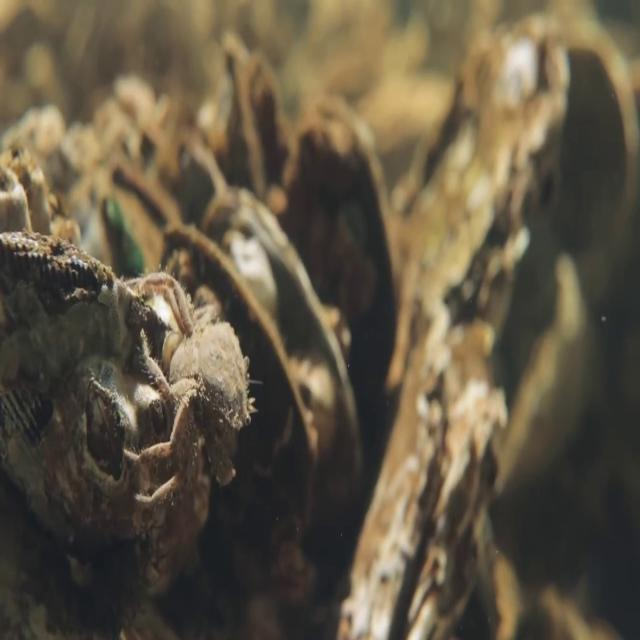Oyster-Open: (163, 186, 364, 539)
